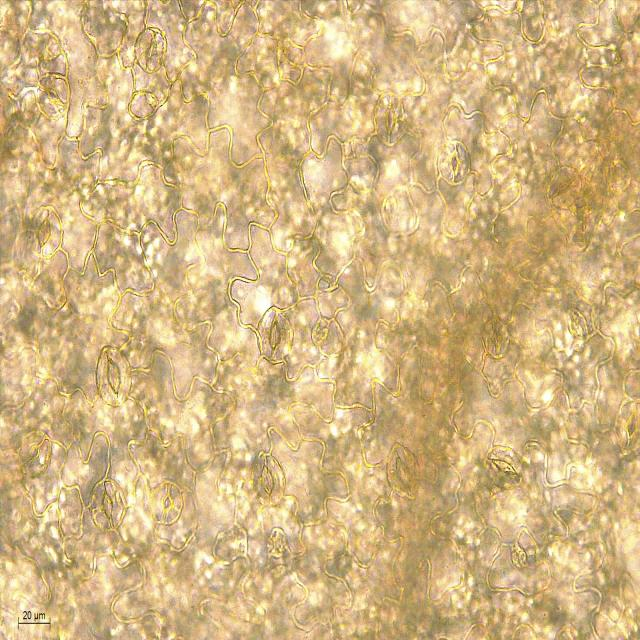Stomata: (93, 342, 136, 409), (24, 201, 67, 261), (254, 305, 296, 366), (86, 475, 129, 534), (385, 439, 425, 502), (249, 449, 288, 509), (482, 444, 528, 492), (16, 427, 56, 482), (33, 69, 72, 123), (130, 23, 169, 77), (433, 138, 475, 187), (544, 164, 586, 213), (373, 92, 411, 146), (148, 478, 185, 528), (480, 315, 515, 364), (613, 398, 640, 453)
